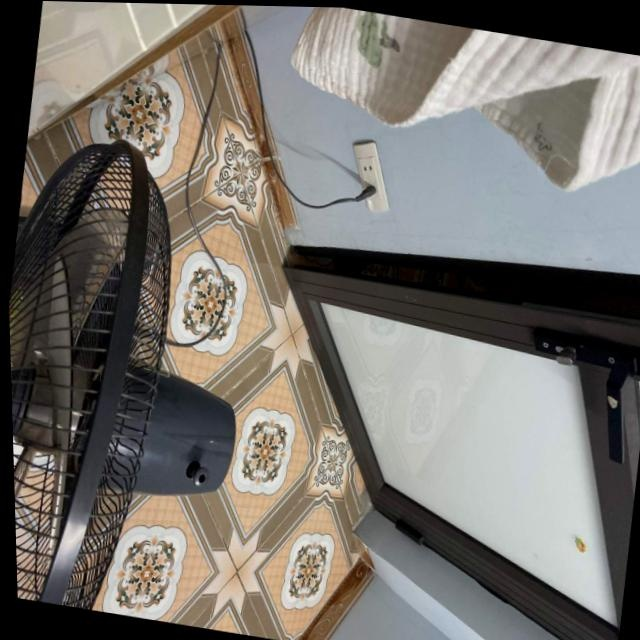outlet: (343, 137, 399, 214)
